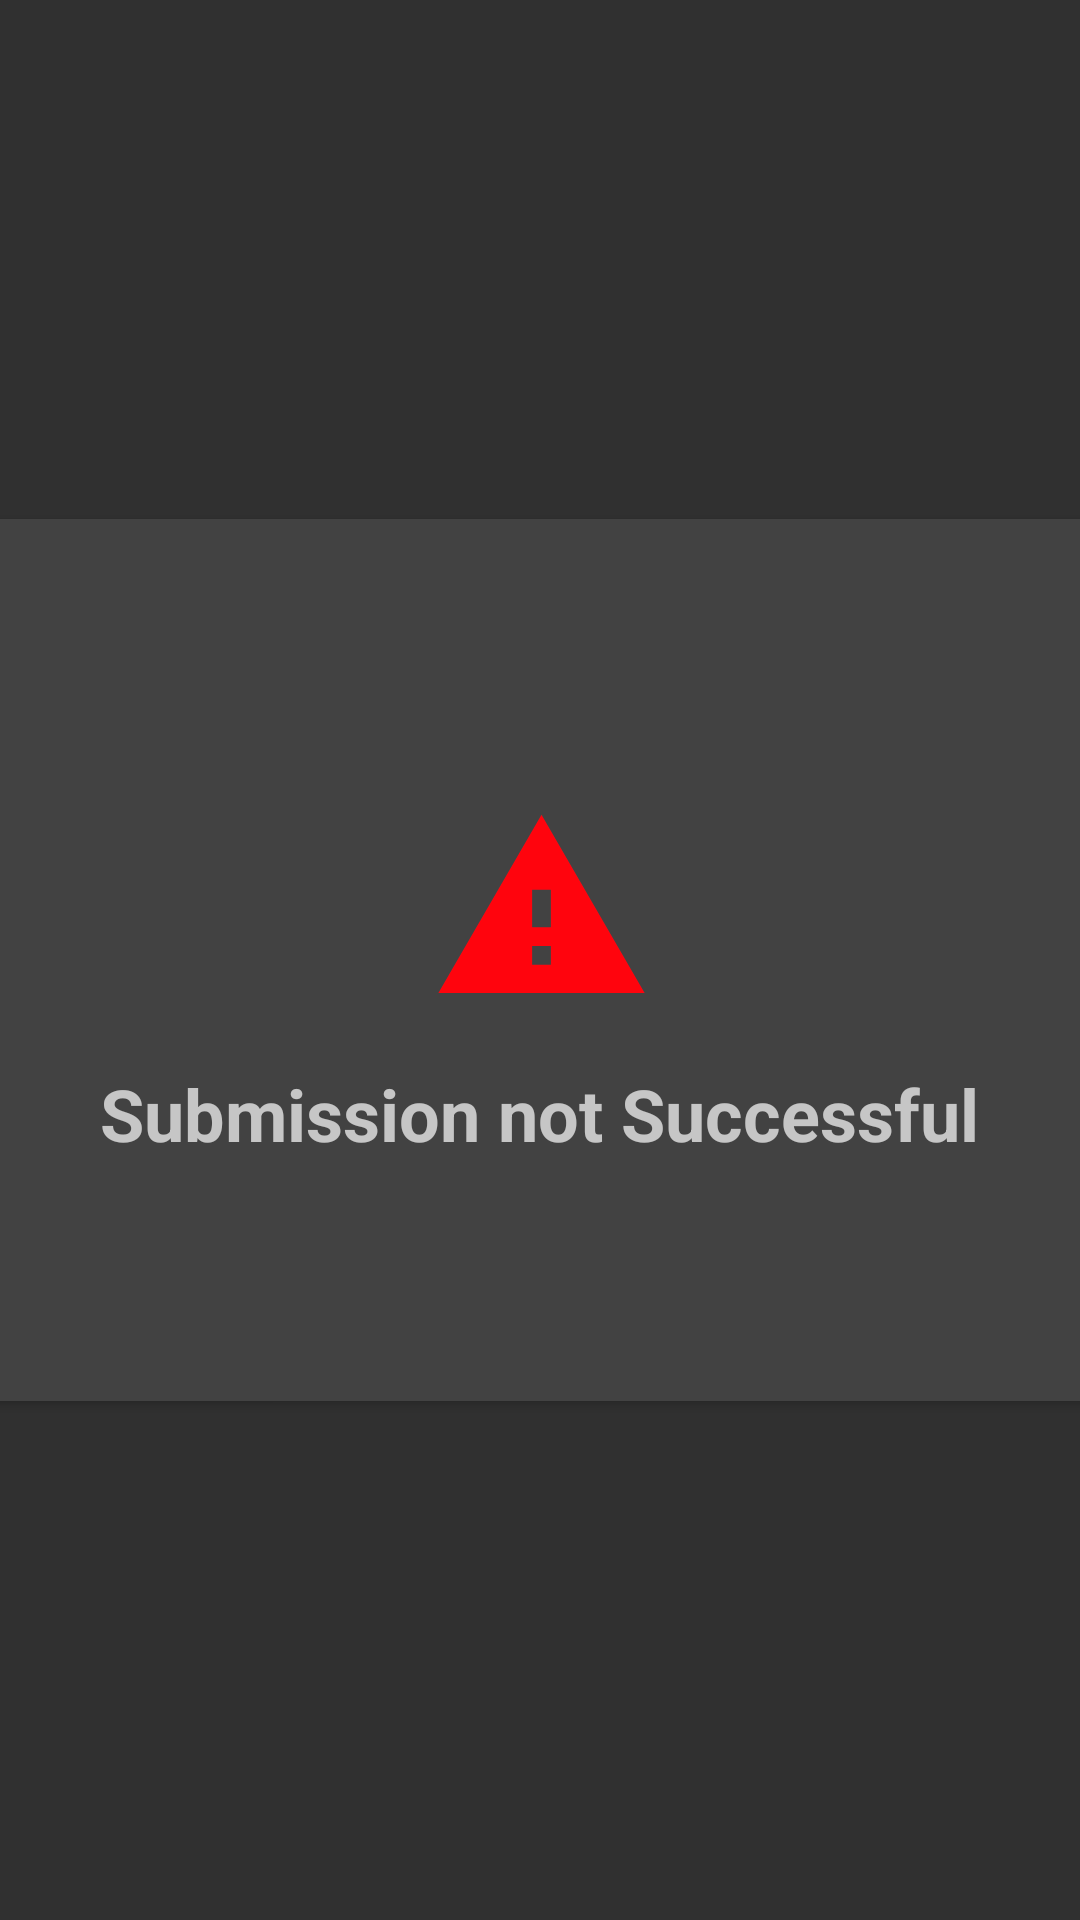

Named icons in this screenshot (1080w x 1920h) and their bounding boxes, (x1, y1, x2, y2):
failure: (438, 815, 645, 993)
